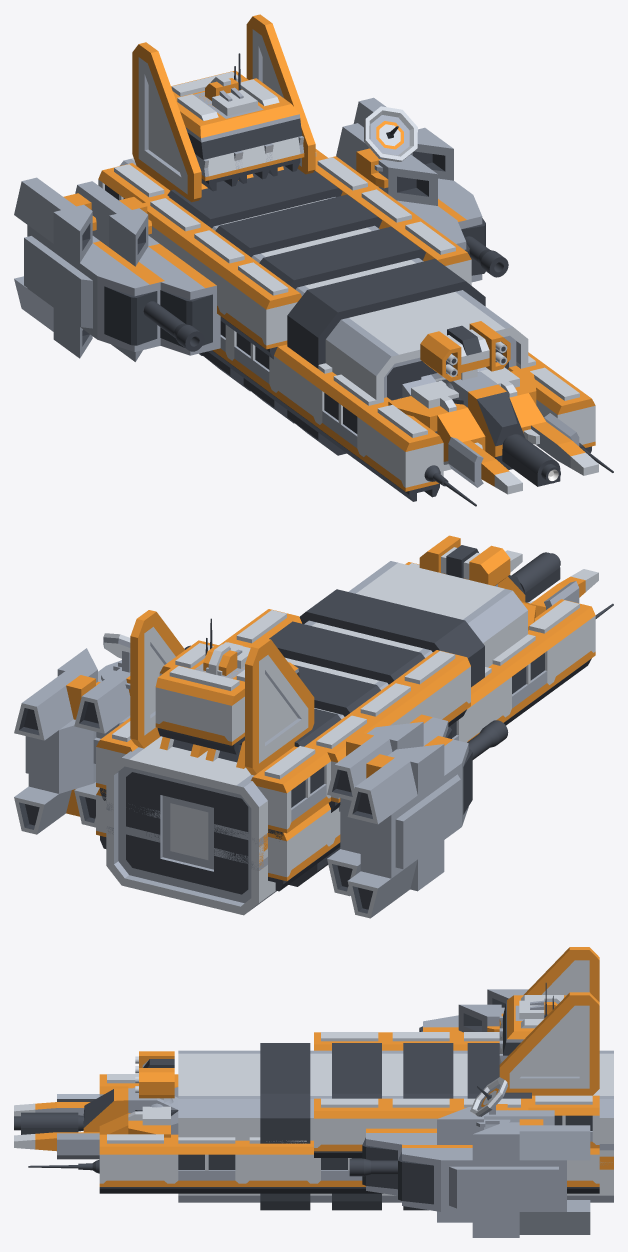
The model's file is croiseur_moyen_1.glb.
3 renders of one model, top to bottom at view 1: azimuth 30°, elevation 25°; view 2: azimuth 150°, elevation 25°; view 3: azimuth 270°, elevation 25°, orthographic. The views are drawn at different scales.
Visible parts, largest first — view 1: mergedBlocks(Clone); view 2: mergedBlocks(Clone); view 3: mergedBlocks(Clone).
Part boxes in pixels (x1=…): mergedBlocks(Clone): x1=14, y1=14, x2=613, y2=506; mergedBlocks(Clone): x1=14, y1=535, x2=613, y2=918; mergedBlocks(Clone): x1=14, y1=947, x2=613, y2=1237.
Bounding box in the file's own units: 5 × 3.3 × 8.4.
1 material, 1 textured.
